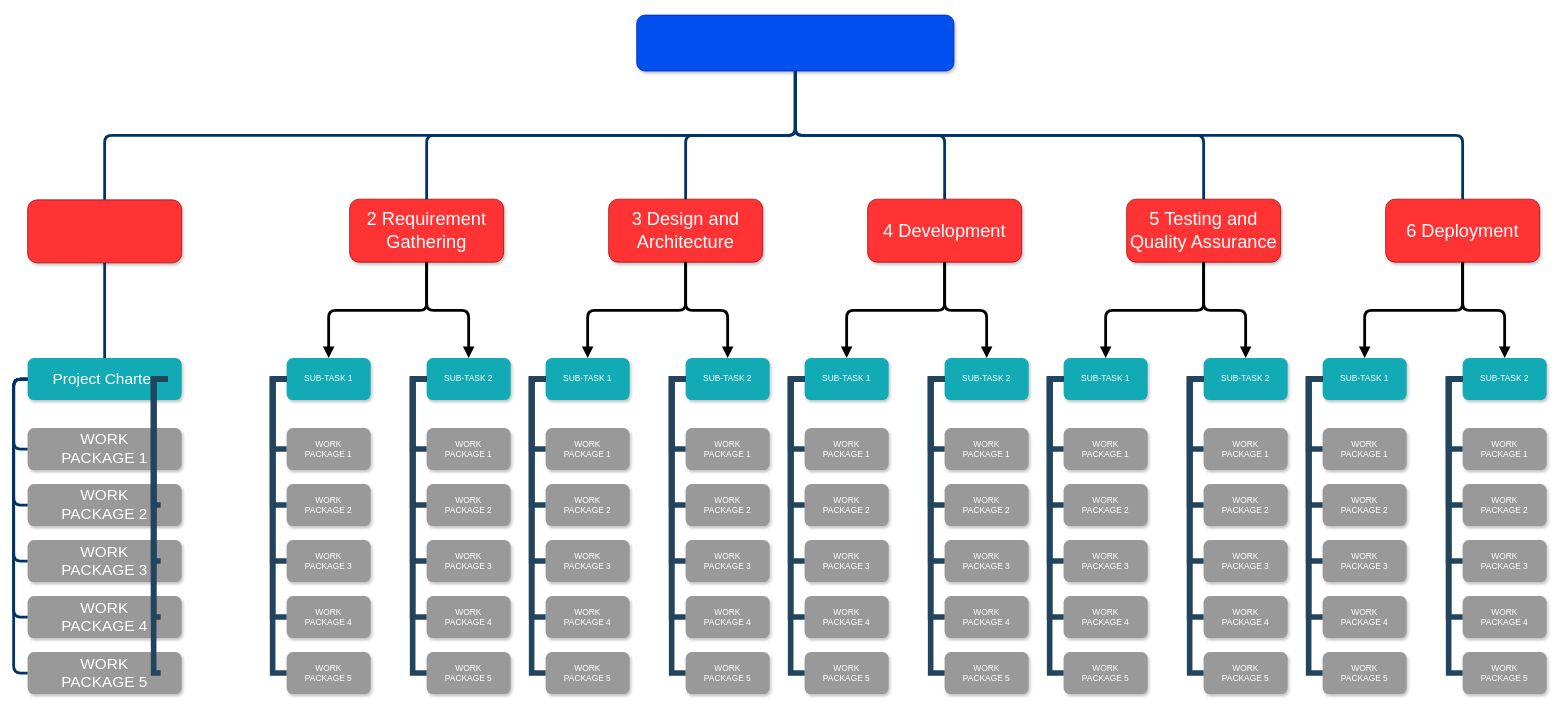
The diagram is 1562 pixels wide and 711 high, and some of its shapes have lost their labels. The centre of each missing label's shape, as x and y in pixels:
"1 Project Management" goes at (105,232).
"UNITED PHARMA WEB APPLICATION" goes at (795,44).
